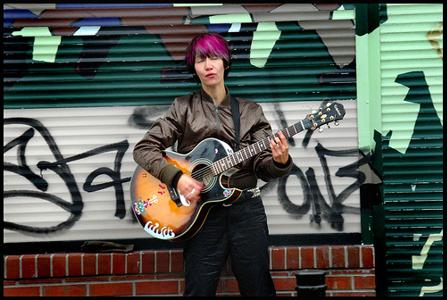person: (134, 33, 296, 300)
